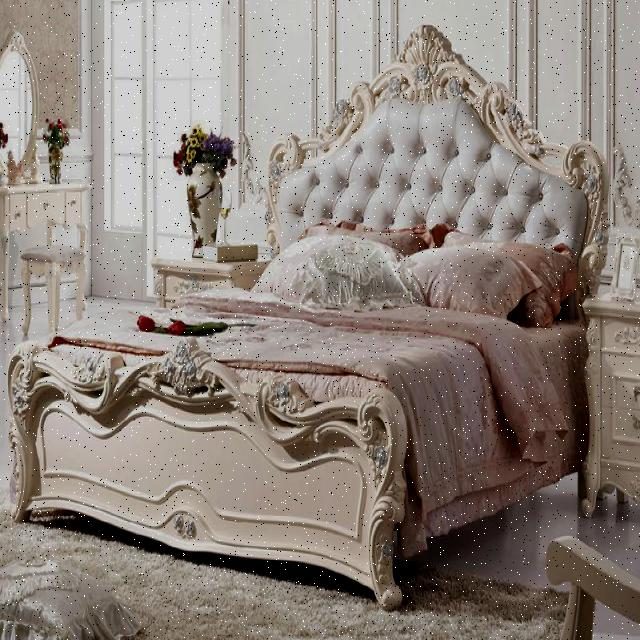bed: (16, 219, 591, 539)
